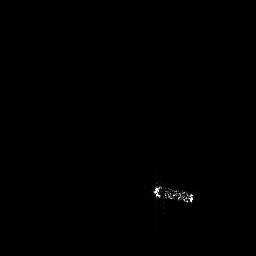ship: (151, 180, 196, 208)
